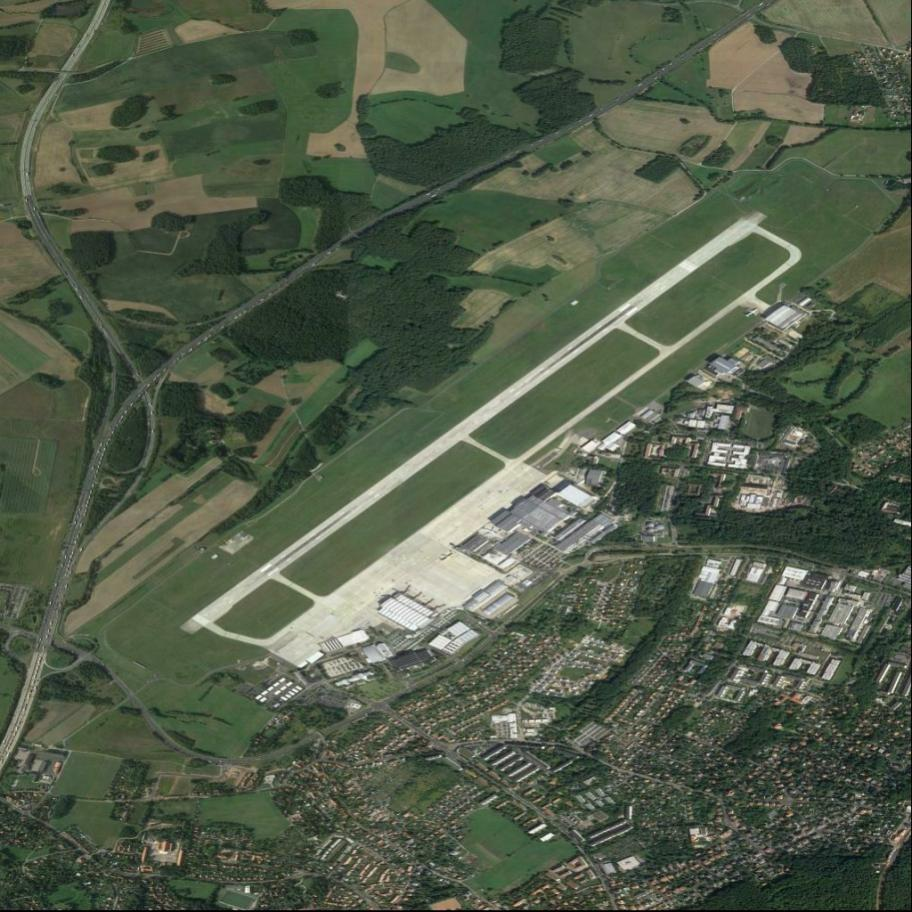plane: (742, 303, 761, 322)
